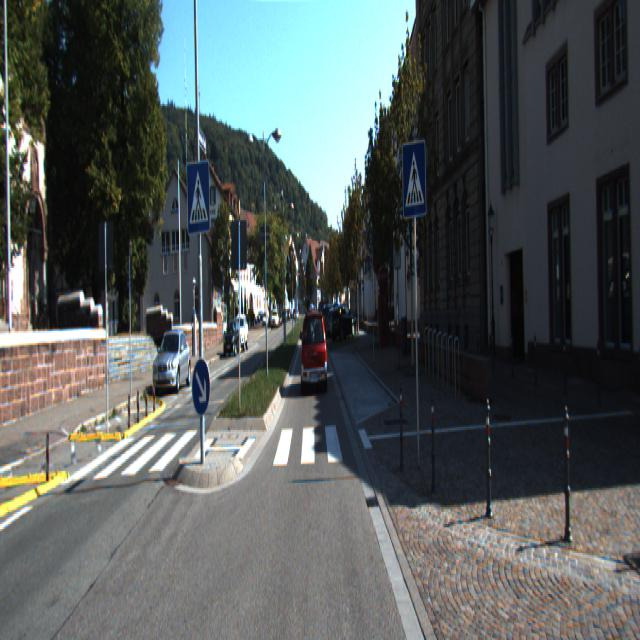Car: (152, 330, 193, 392), (302, 310, 328, 393), (331, 303, 356, 340), (224, 322, 242, 359), (232, 316, 248, 352)
